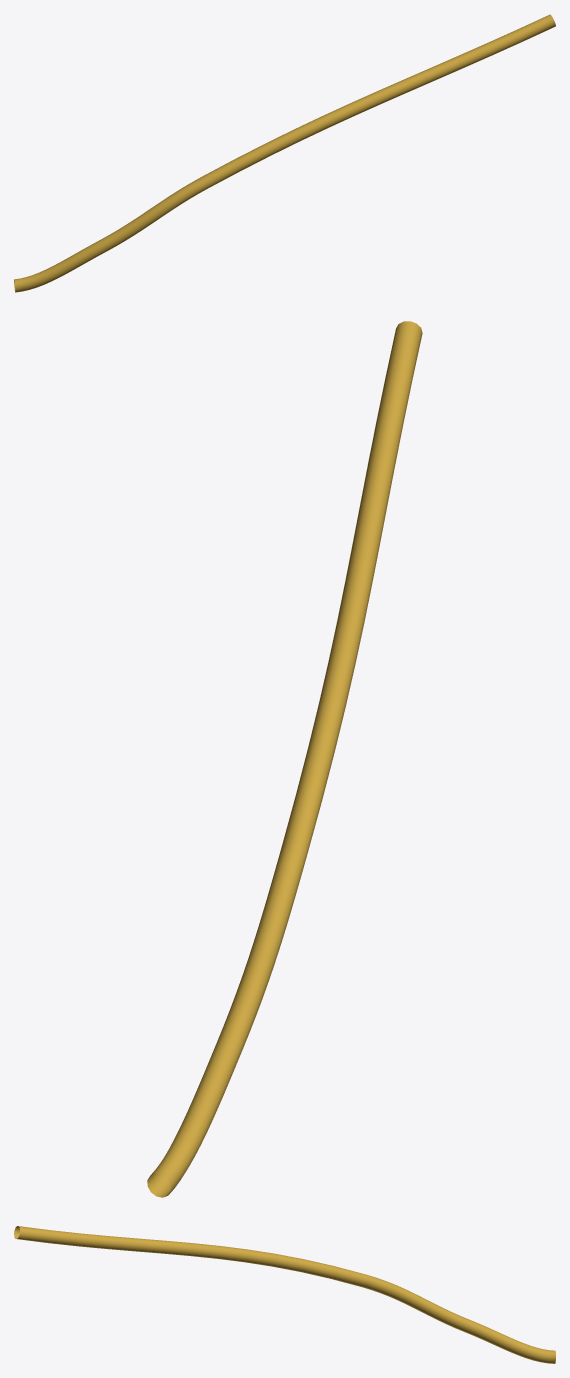
3 renders of one model, top to bottom at view 1: azimuth 90°, elevation 25°; view 2: azimuth 150°, elevation 25°; view 3: azimuth 270°, elevation 25°, orthographic. The views are drawn at different scales.
Visible parts, largest first — view 1: 右侧尺神经浅支; view 2: 右侧尺神经浅支; view 3: 右侧尺神经浅支.
Part boxes in pixels (bbox=[...]): 右侧尺神经浅支: bbox=[14, 14, 555, 292]; 右侧尺神经浅支: bbox=[147, 321, 422, 1197]; 右侧尺神经浅支: bbox=[14, 1226, 555, 1363].
Size of the model in its own units: 0.0195 by 0.0249 by 0.0591.
